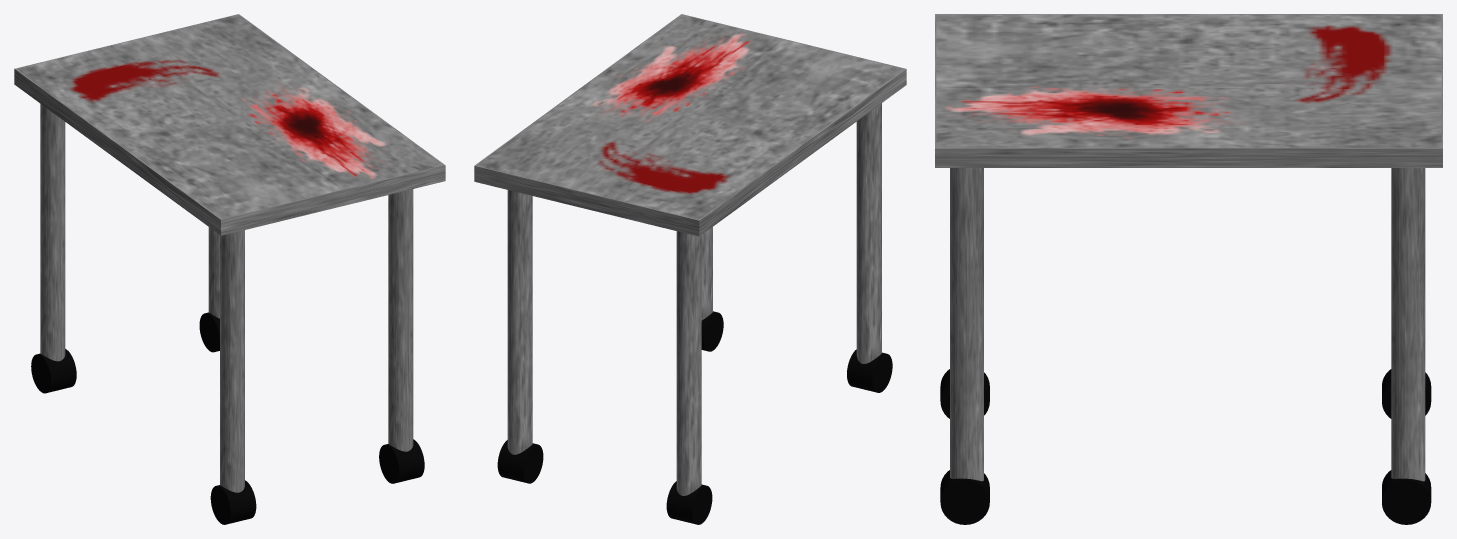
The model's file is Tray.fbx.
3 views of the same model, side by side, from view 1: azimuth 30°, elevation 25°; view 2: azimuth 150°, elevation 25°; view 3: azimuth 270°, elevation 25° (orthographic). The views are drawn at different scales.
Visible parts, largest first — view 1: Plane, Cube, Cylinder.010, Cylinder.006, Cylinder.004, Cylinder.003, Cylinder.009, Cylinder.008, Cylinder, Cylinder.002; view 2: Plane, Cube, Cylinder.004, Cylinder, Cylinder.006, Cylinder.002, Cylinder.003, Cylinder.008, Cylinder.010, Cylinder.009; view 3: Plane, Cube, Cylinder, Cylinder.010, Cylinder.009, Cylinder.002, Cylinder.003, Cylinder.008.
Part boxes in pixels (x1,y1,x2,y2): Plane: (16,15,442,218); Cube: (14,14,445,235); Cylinder.010: (388,189,413,451); Cylinder.006: (220,230,244,492); Cylinder.004: (40,104,65,361); Cylinder.003: (31,349,76,393); Cylinder.009: (379,439,424,483); Cylinder.008: (210,480,256,524); Cylinder: (208,227,219,318); Cylinder.002: (199,312,219,352); Plane: (476,14,904,219); Cube: (474,14,906,236); Cylinder.004: (676,231,701,495); Cylinder: (507,190,532,454); Cylinder.006: (856,103,881,363); Cylinder.002: (497,440,543,483); Cylinder.003: (666,481,712,524); Cylinder.008: (847,349,892,392); Cylinder.010: (701,227,712,320); Cylinder.009: (701,311,723,351); Plane: (936,14,1441,147); Cube: (935,14,1442,167); Cylinder: (1391,168,1425,481); Cylinder.010: (950,168,983,481); Cylinder.009: (940,470,989,524); Cylinder.002: (1382,470,1431,524); Cylinder.003: (1382,369,1431,418); Cylinder.008: (940,369,989,418).
Size of the model in its own units: 390 by 523 by 622.
14 materials, 10 textured.
